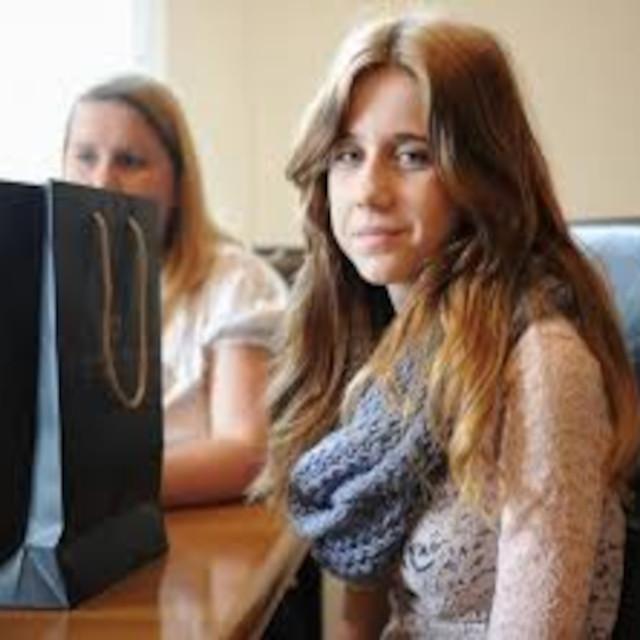kobieta: (293, 9, 640, 640), (29, 70, 289, 504)
